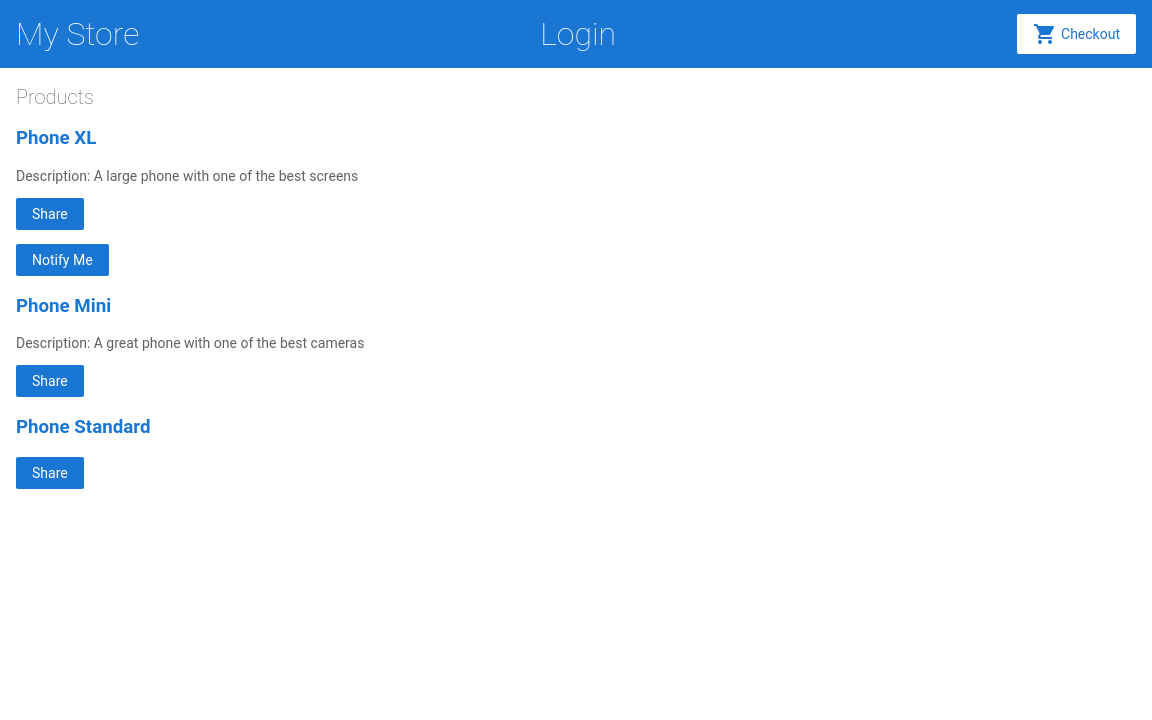
template spec › charges the home page and sees a list of 3 articles
Click the link with class "fancy-button".
click(1077, 34)  # box [1017,14,1136,54]
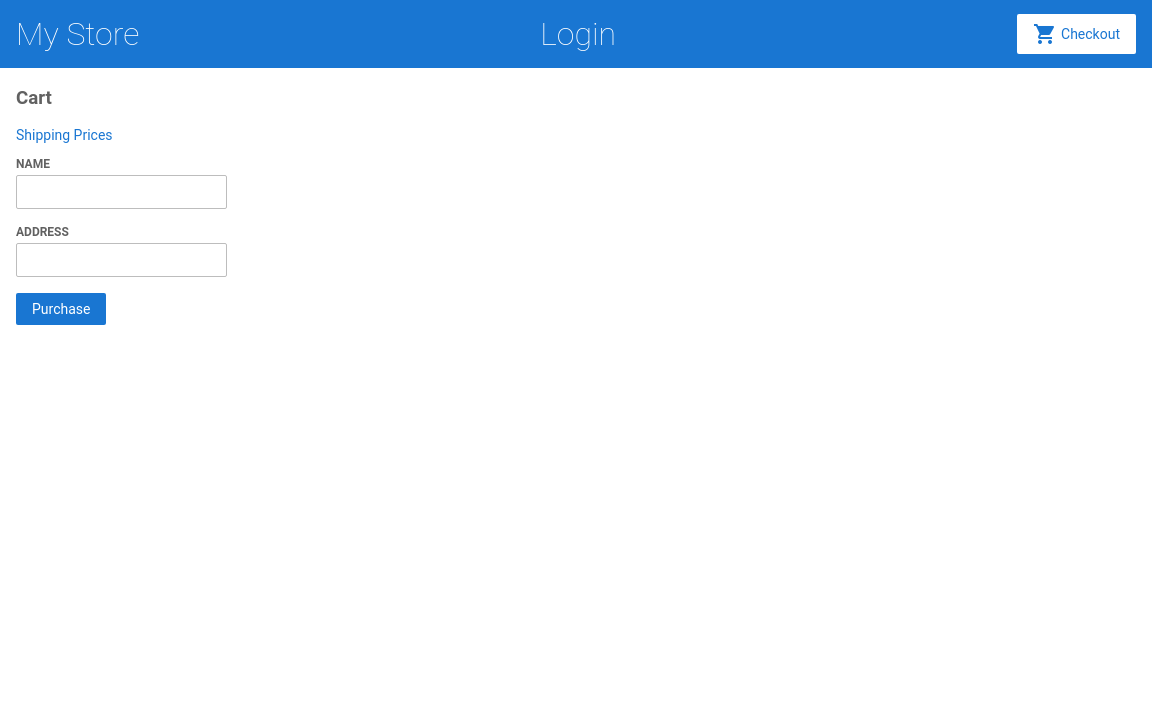
Click the link "Shipping Prices".
click(65, 135)  # box [16,127,113,143]
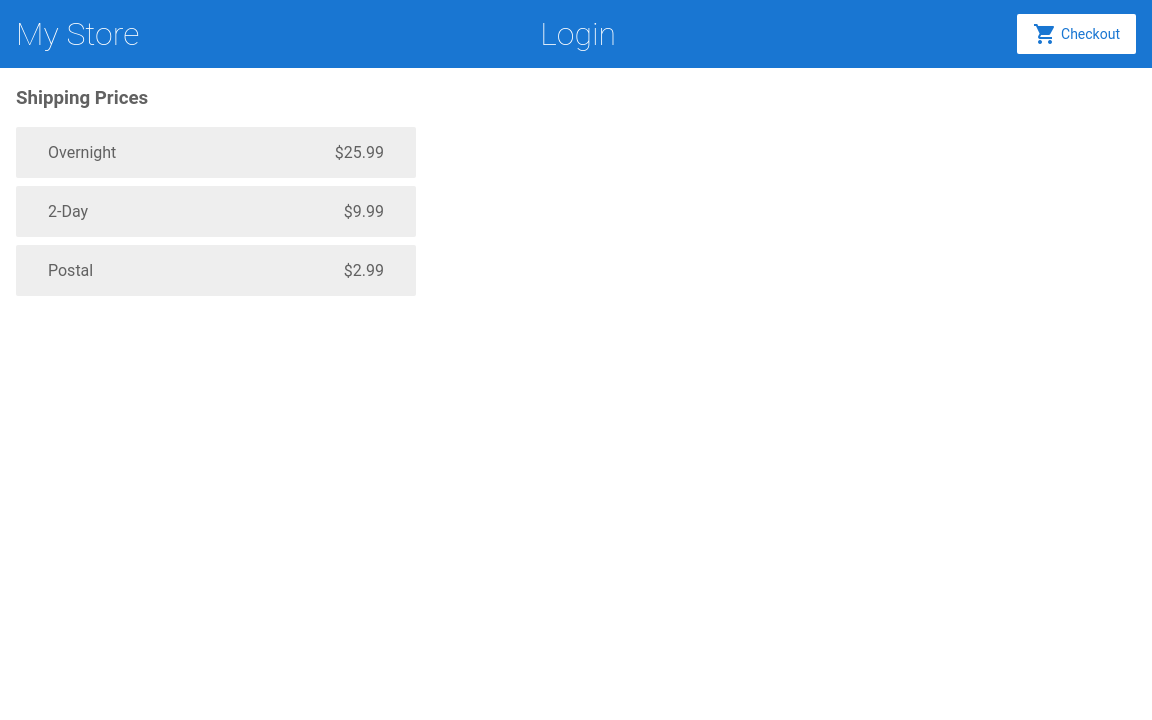
Expected: the number of elements with class "shipping-item" is 3, [16,127,416,178]; [16,186,416,237]; [16,245,416,296]
